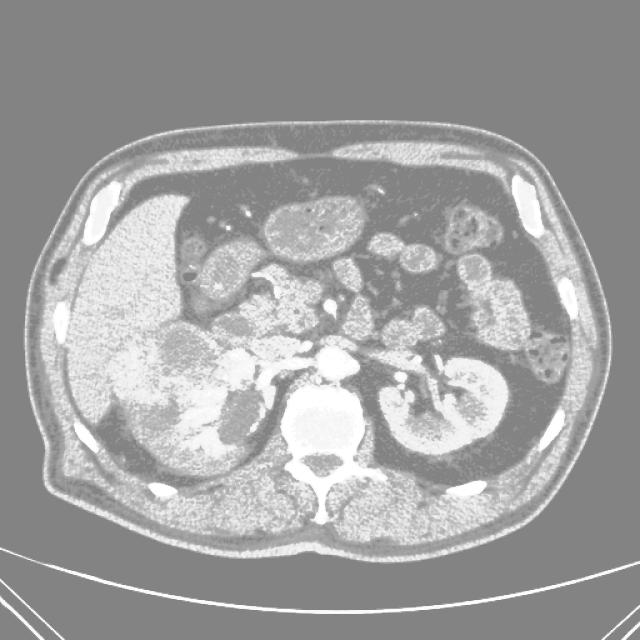TUMOR: (79, 320, 512, 499)
